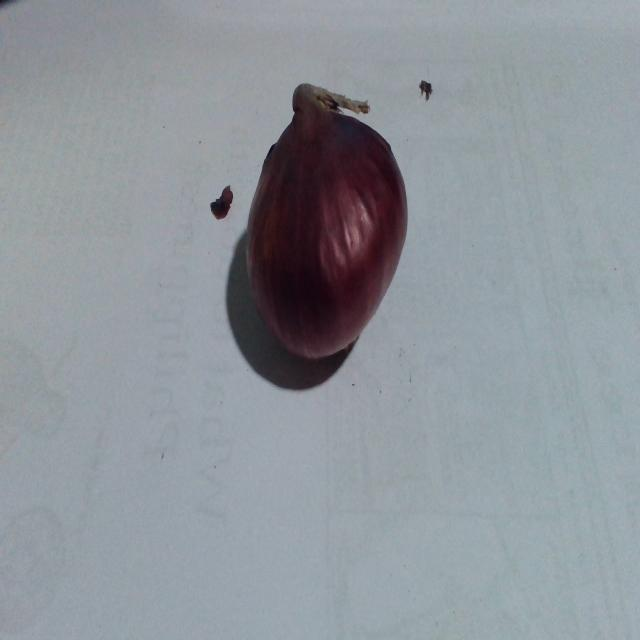onion: (229, 63, 431, 392)
